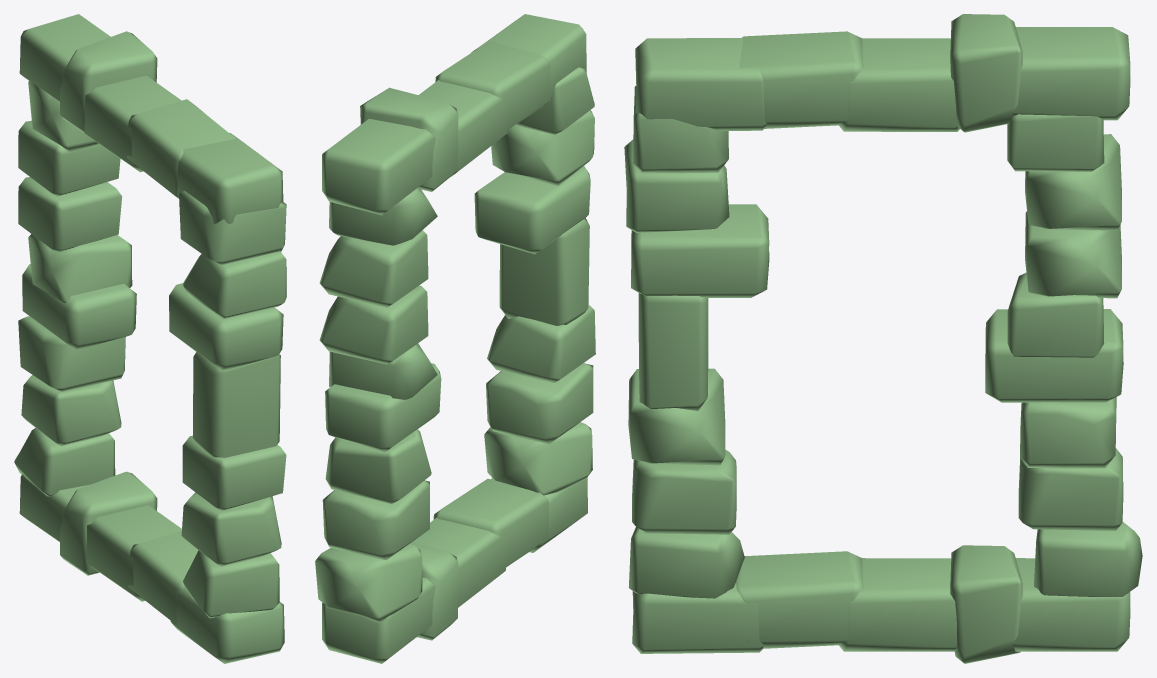
File: Stone_Window_02_Lod0.fbx
3 views of the same model, side by side, from view 1: azimuth 30°, elevation 25°; view 2: azimuth 150°, elevation 25°; view 3: azimuth 270°, elevation 25° (orthographic). The views are drawn at different scales.
Parts seen in each view (by area): view 1: Stone_Window_02_Lod0; view 2: Stone_Window_02_Lod0; view 3: Stone_Window_02_Lod0.
Part boxes in pixels (x1=…): Stone_Window_02_Lod0: x1=14, y1=14, x2=286, y2=663; Stone_Window_02_Lod0: x1=315, y1=14, x2=595, y2=663; Stone_Window_02_Lod0: x1=624, y1=14, x2=1142, y2=663.
Size of the model in its own units: 41.67 by 259 by 196.
